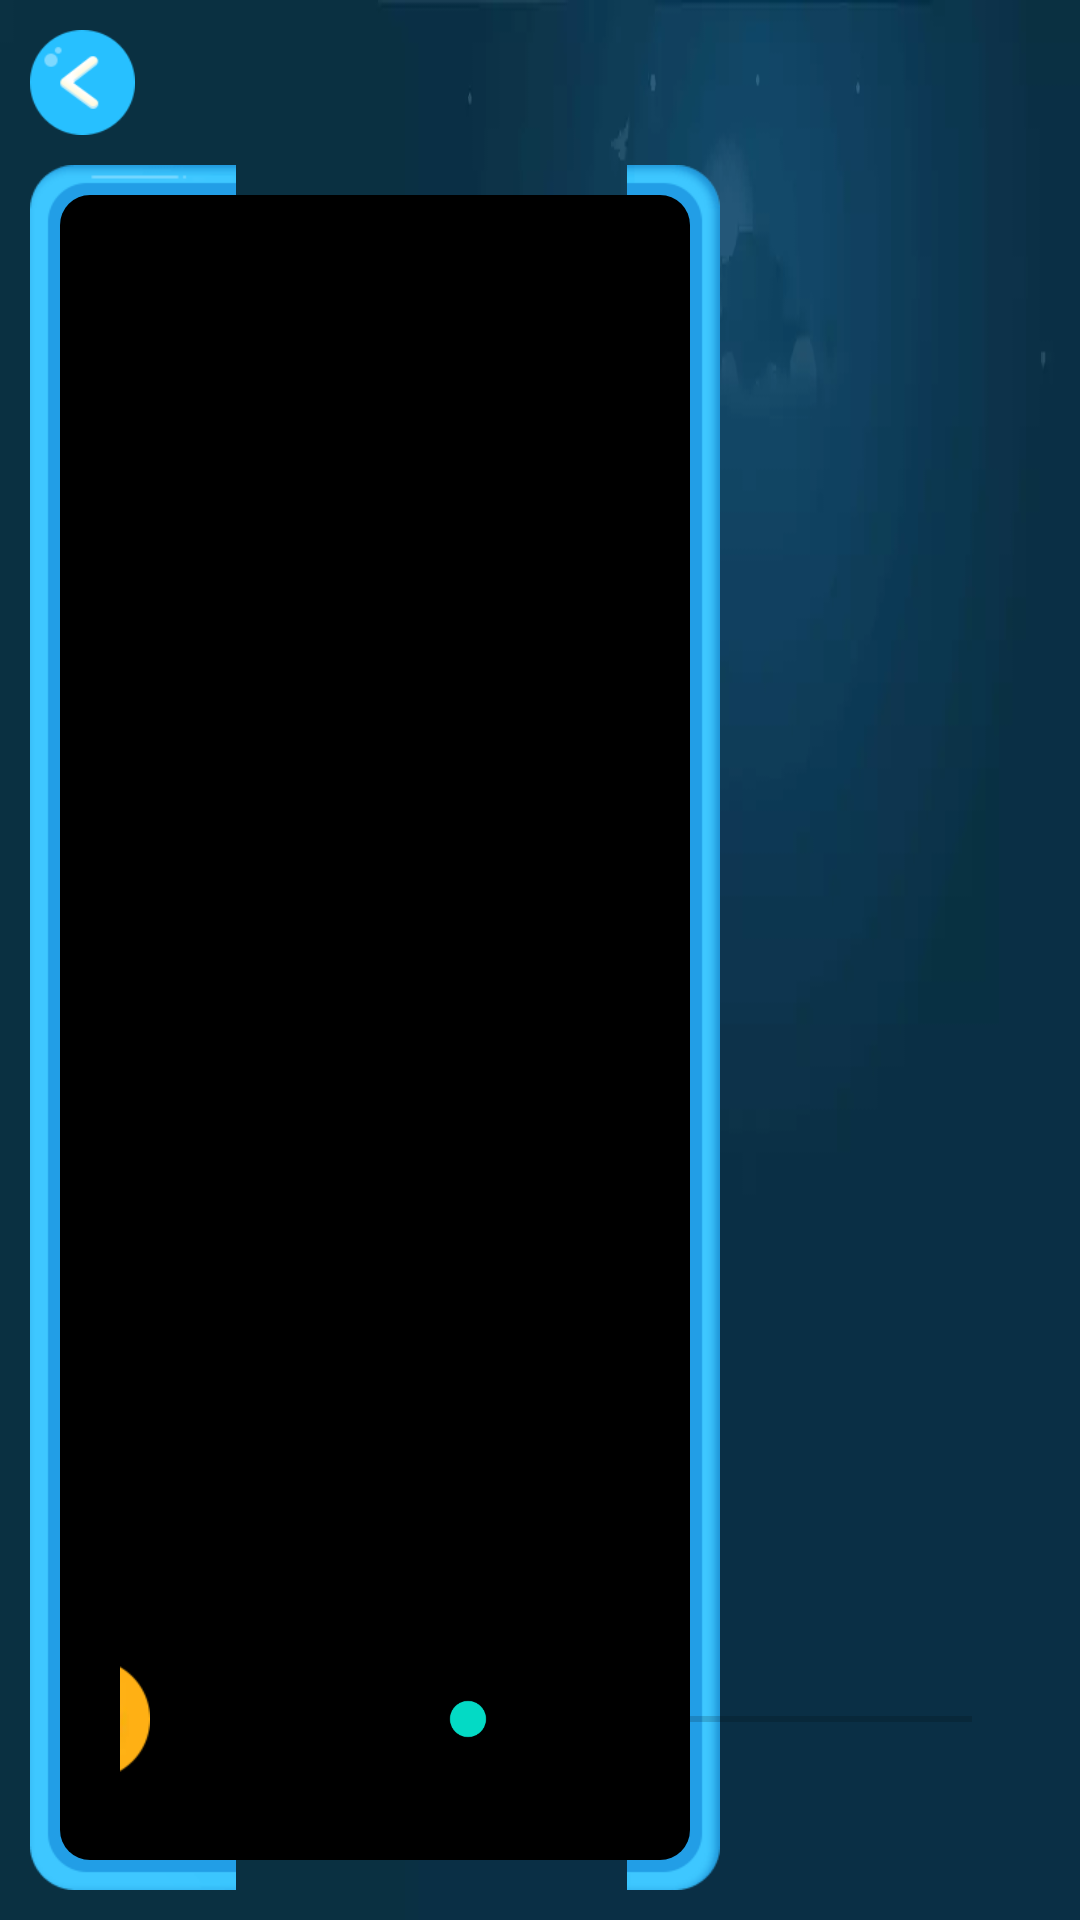

Icons on this 1080 × 1920 Android screen, each with its box as (x1, y1, x2, y2):
replaceable video player back: (30, 30, 135, 135)
